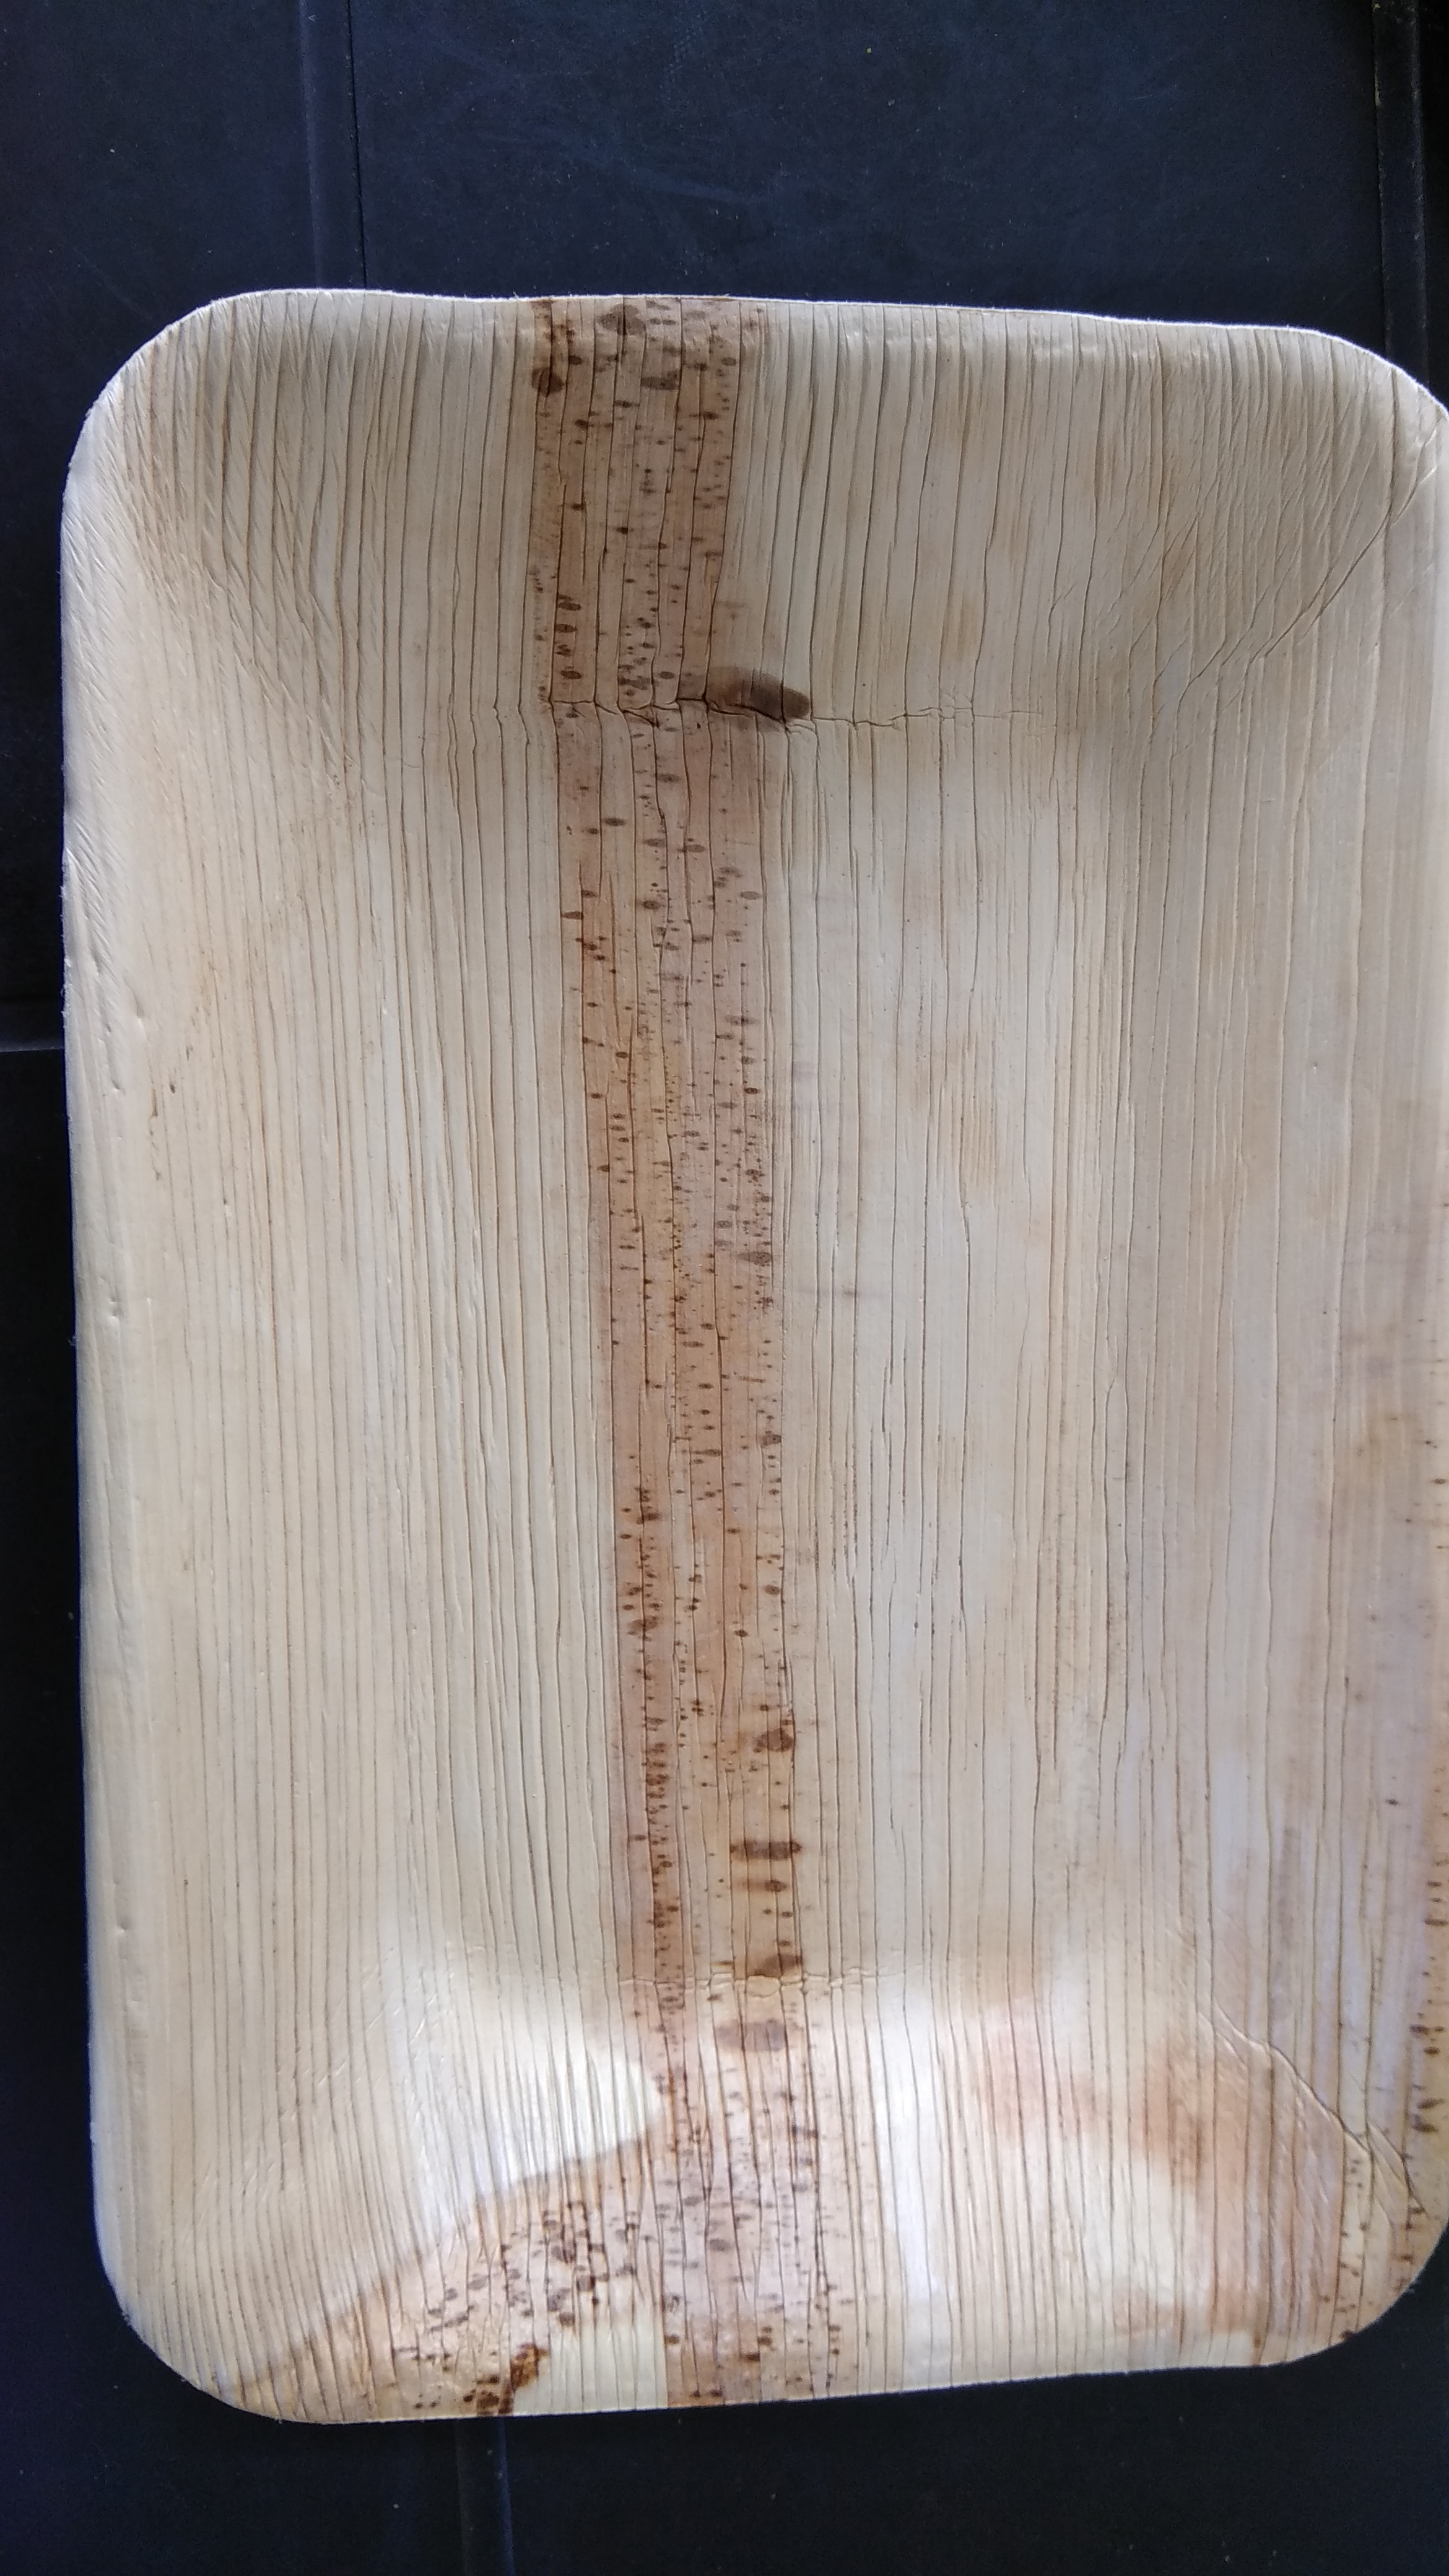areca plate: (71, 297, 1428, 2415)
